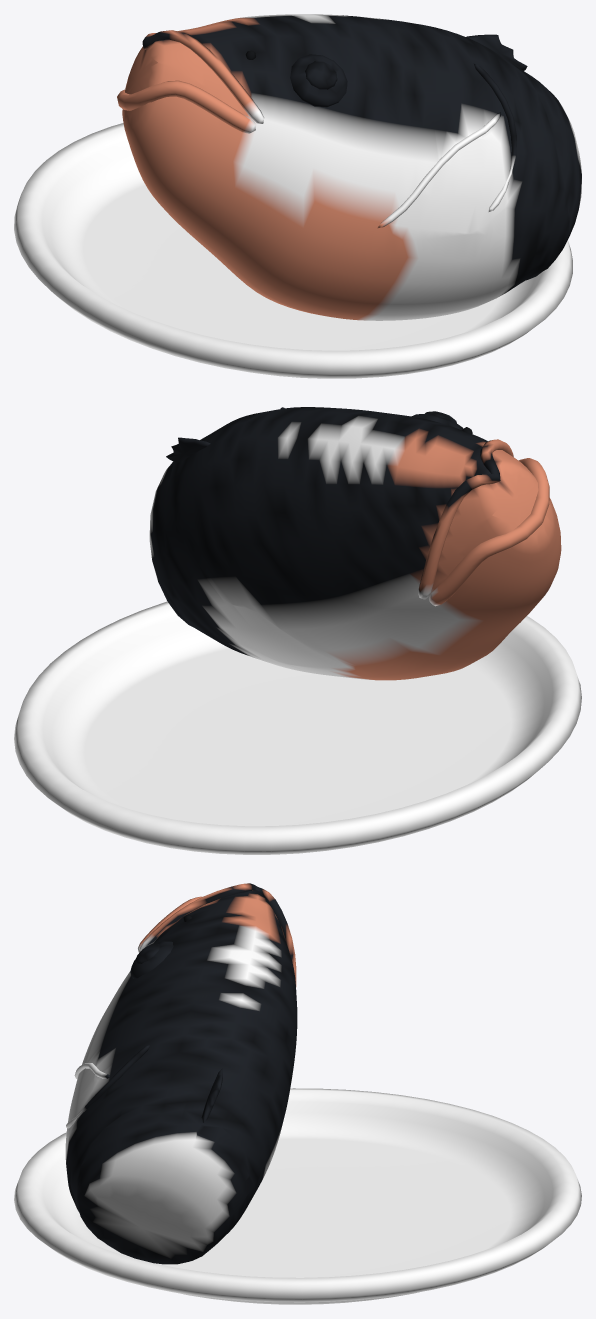
The model's file is SM_fish_head.fbx.
3 renders of one model, top to bottom at view 1: azimuth 30°, elevation 25°; view 2: azimuth 150°, elevation 25°; view 3: azimuth 270°, elevation 25°, orthographic. The views are drawn at different scales.
Parts seen in each view (by area): view 1: SM_fish_head; view 2: SM_fish_head; view 3: SM_fish_head.
Part boxes in pixels (x1,y1,x2,y2): SM_fish_head: (14,14,581,378); SM_fish_head: (14,407,581,854); SM_fish_head: (14,883,581,1304).
Bounding box in the file's own units: 0.2082 × 0.1394 × 0.2496.
